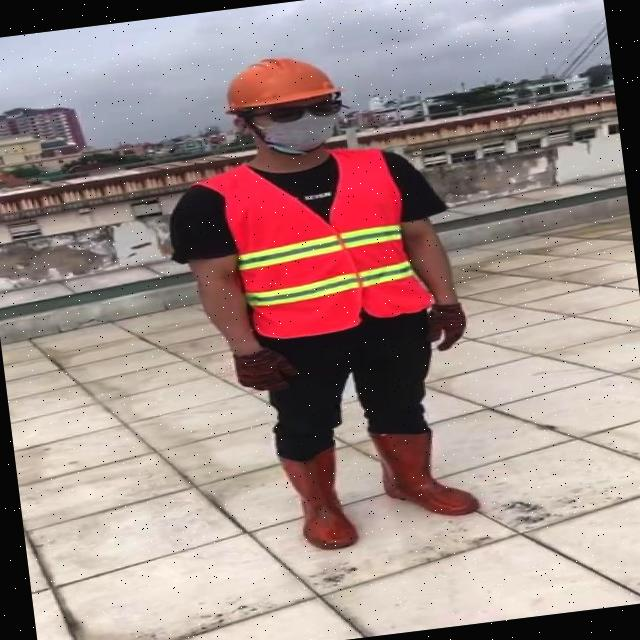boots: (371, 418, 476, 525), (276, 446, 364, 553)
